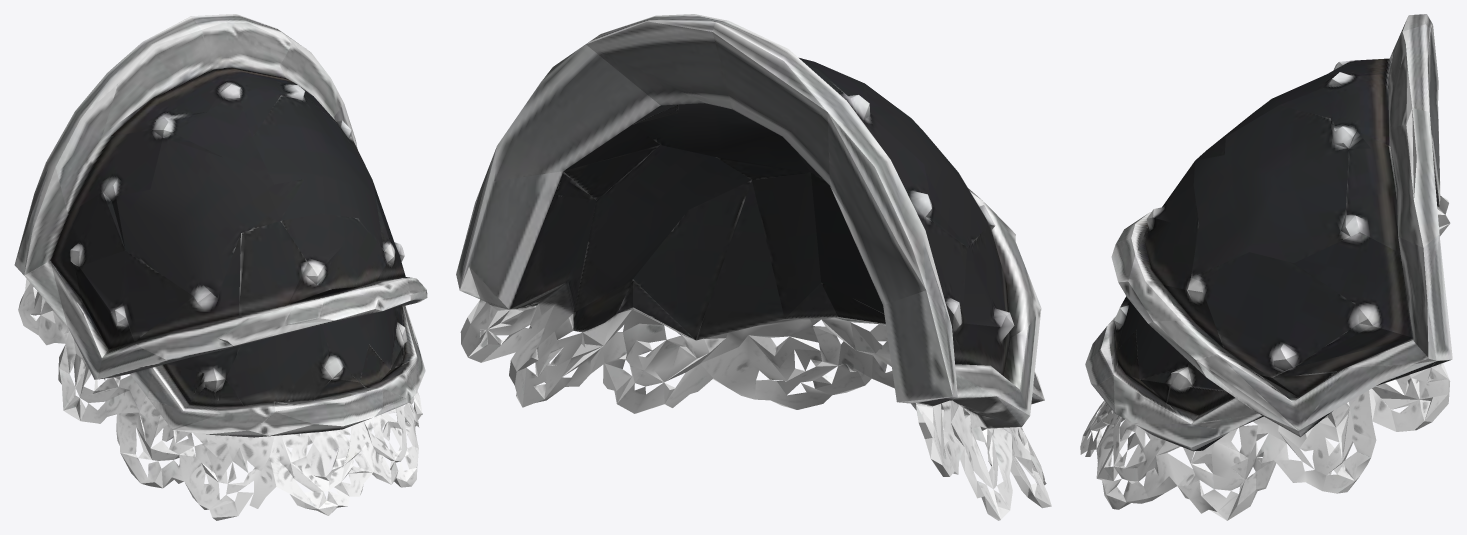
Rendered from merletto-spalle.glb.
3 views of the same model, side by side, from view 1: azimuth 30°, elevation 25°; view 2: azimuth 150°, elevation 25°; view 3: azimuth 270°, elevation 25° (orthographic). The views are drawn at different scales.
Visible parts, largest first — view 1: Mesh_0; view 2: Mesh_0; view 3: Mesh_0.
Boxes of the visible parts, x1,y1,x2,y2 form: Mesh_0: [14, 14, 427, 520]; Mesh_0: [456, 14, 1051, 520]; Mesh_0: [1080, 14, 1452, 520].
Size of the model in its own units: 1.76 by 1.9 by 1.46.
Materials: 1 (1 with a texture image).
